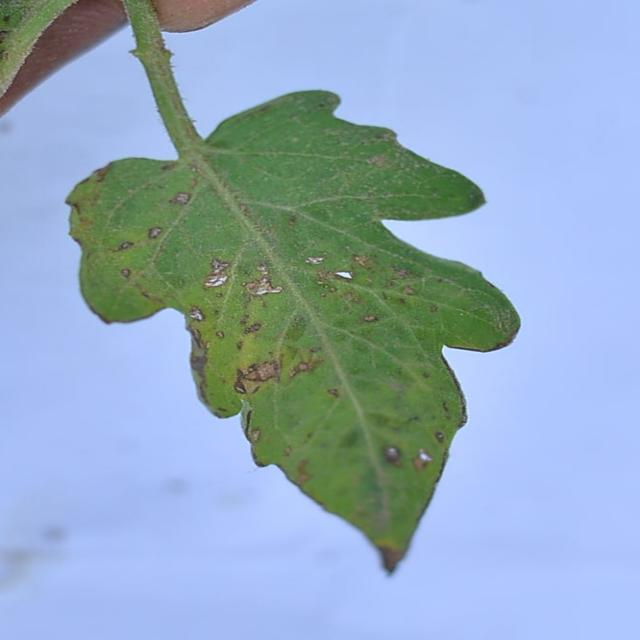infected: (60, 161, 522, 578)
